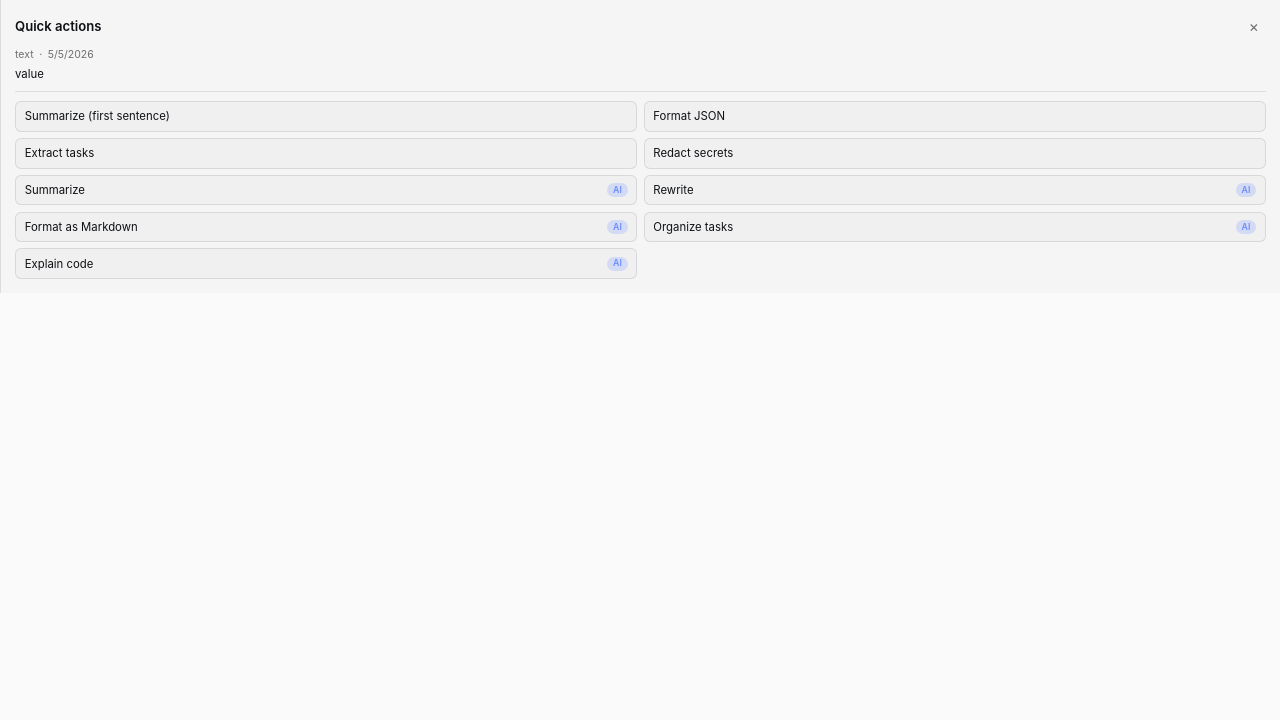
Test: ActionInspector › surfaces the error message when a quick action rejects
Click the button with test id "quick-FormatJson": (689, 116) x1=644 y1=101 x2=1266 y2=132
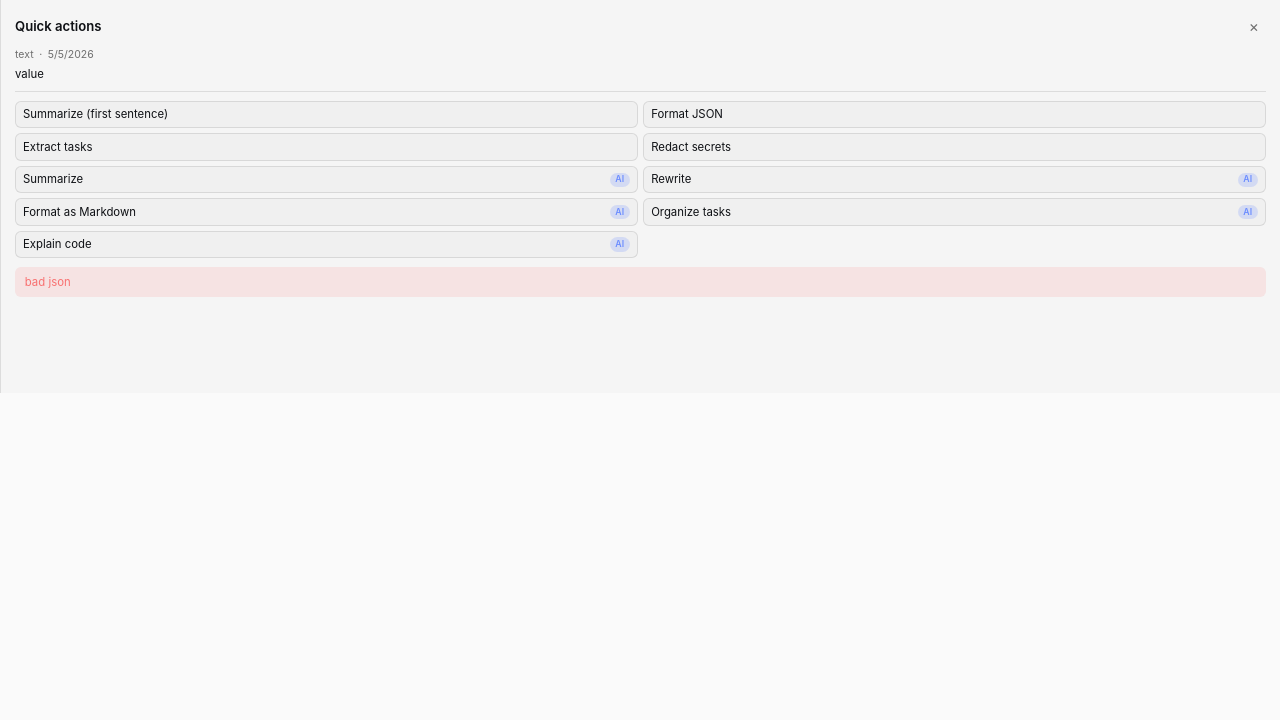
expect the text "bad json" is shown: met, box x1=15 y1=267 x2=1266 y2=297
